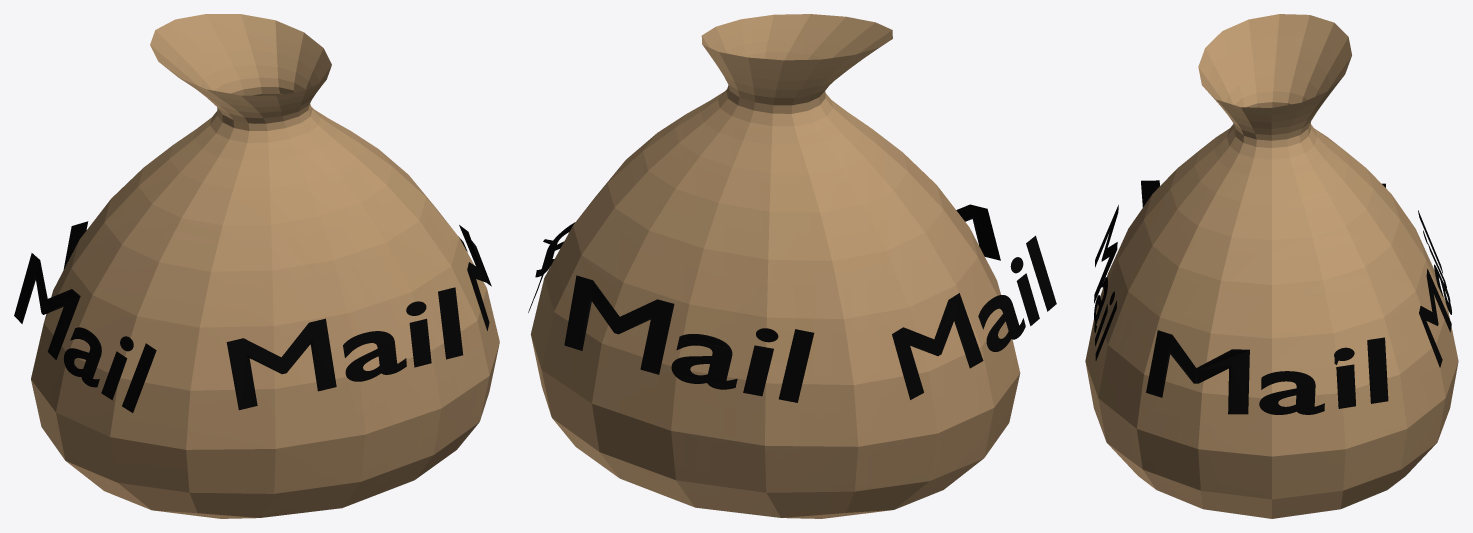
File: mailbag.glb
3 renders of one model, left to right at view 1: azimuth 30°, elevation 25°; view 2: azimuth 150°, elevation 25°; view 3: azimuth 270°, elevation 25°, orthographic. The views are drawn at different scales.
Parts seen in each view (by area): view 1: Cube.007, Text, Text.001, Text.003; view 2: Cube.007, Text.002, Text.001, Text; view 3: Cube.007, Text.003, Text.002, Text.
Part boxes in pixels (x1,y1,x2,y2): Cube.007: (31, 14, 499, 518); Text: (226, 287, 463, 410); Text.001: (14, 253, 156, 412); Text.003: (458, 225, 491, 330); Cube.007: (530, 14, 1020, 518); Text.002: (564, 275, 814, 402); Text.001: (892, 235, 1056, 399); Text: (956, 204, 1000, 260); Cube.007: (1085, 14, 1458, 518); Text.003: (1146, 330, 1388, 414); Text.002: (1418, 210, 1451, 367); Text: (1094, 205, 1118, 360).
Size of the model in its own units: 2.4 by 2.46 by 1.99.
Materials: 2 (1 with a texture image).
